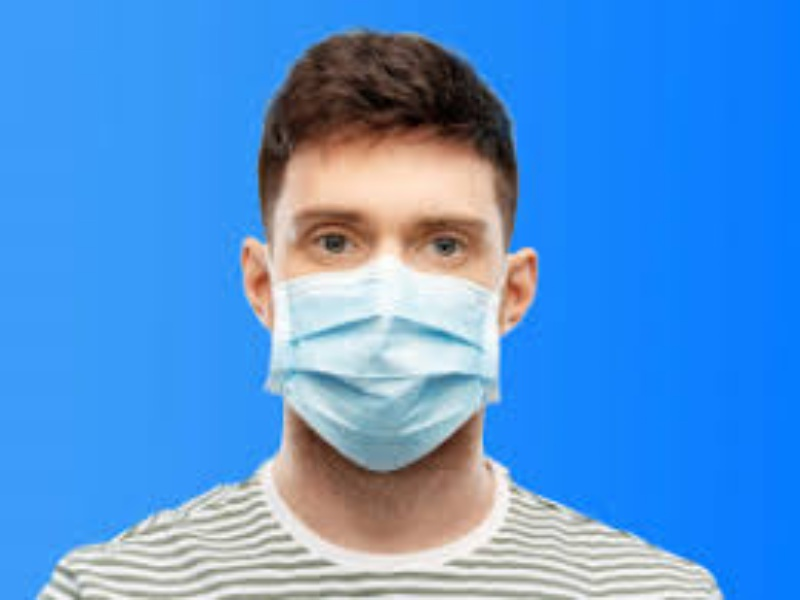ManaoArotava: (234, 41, 555, 491)
